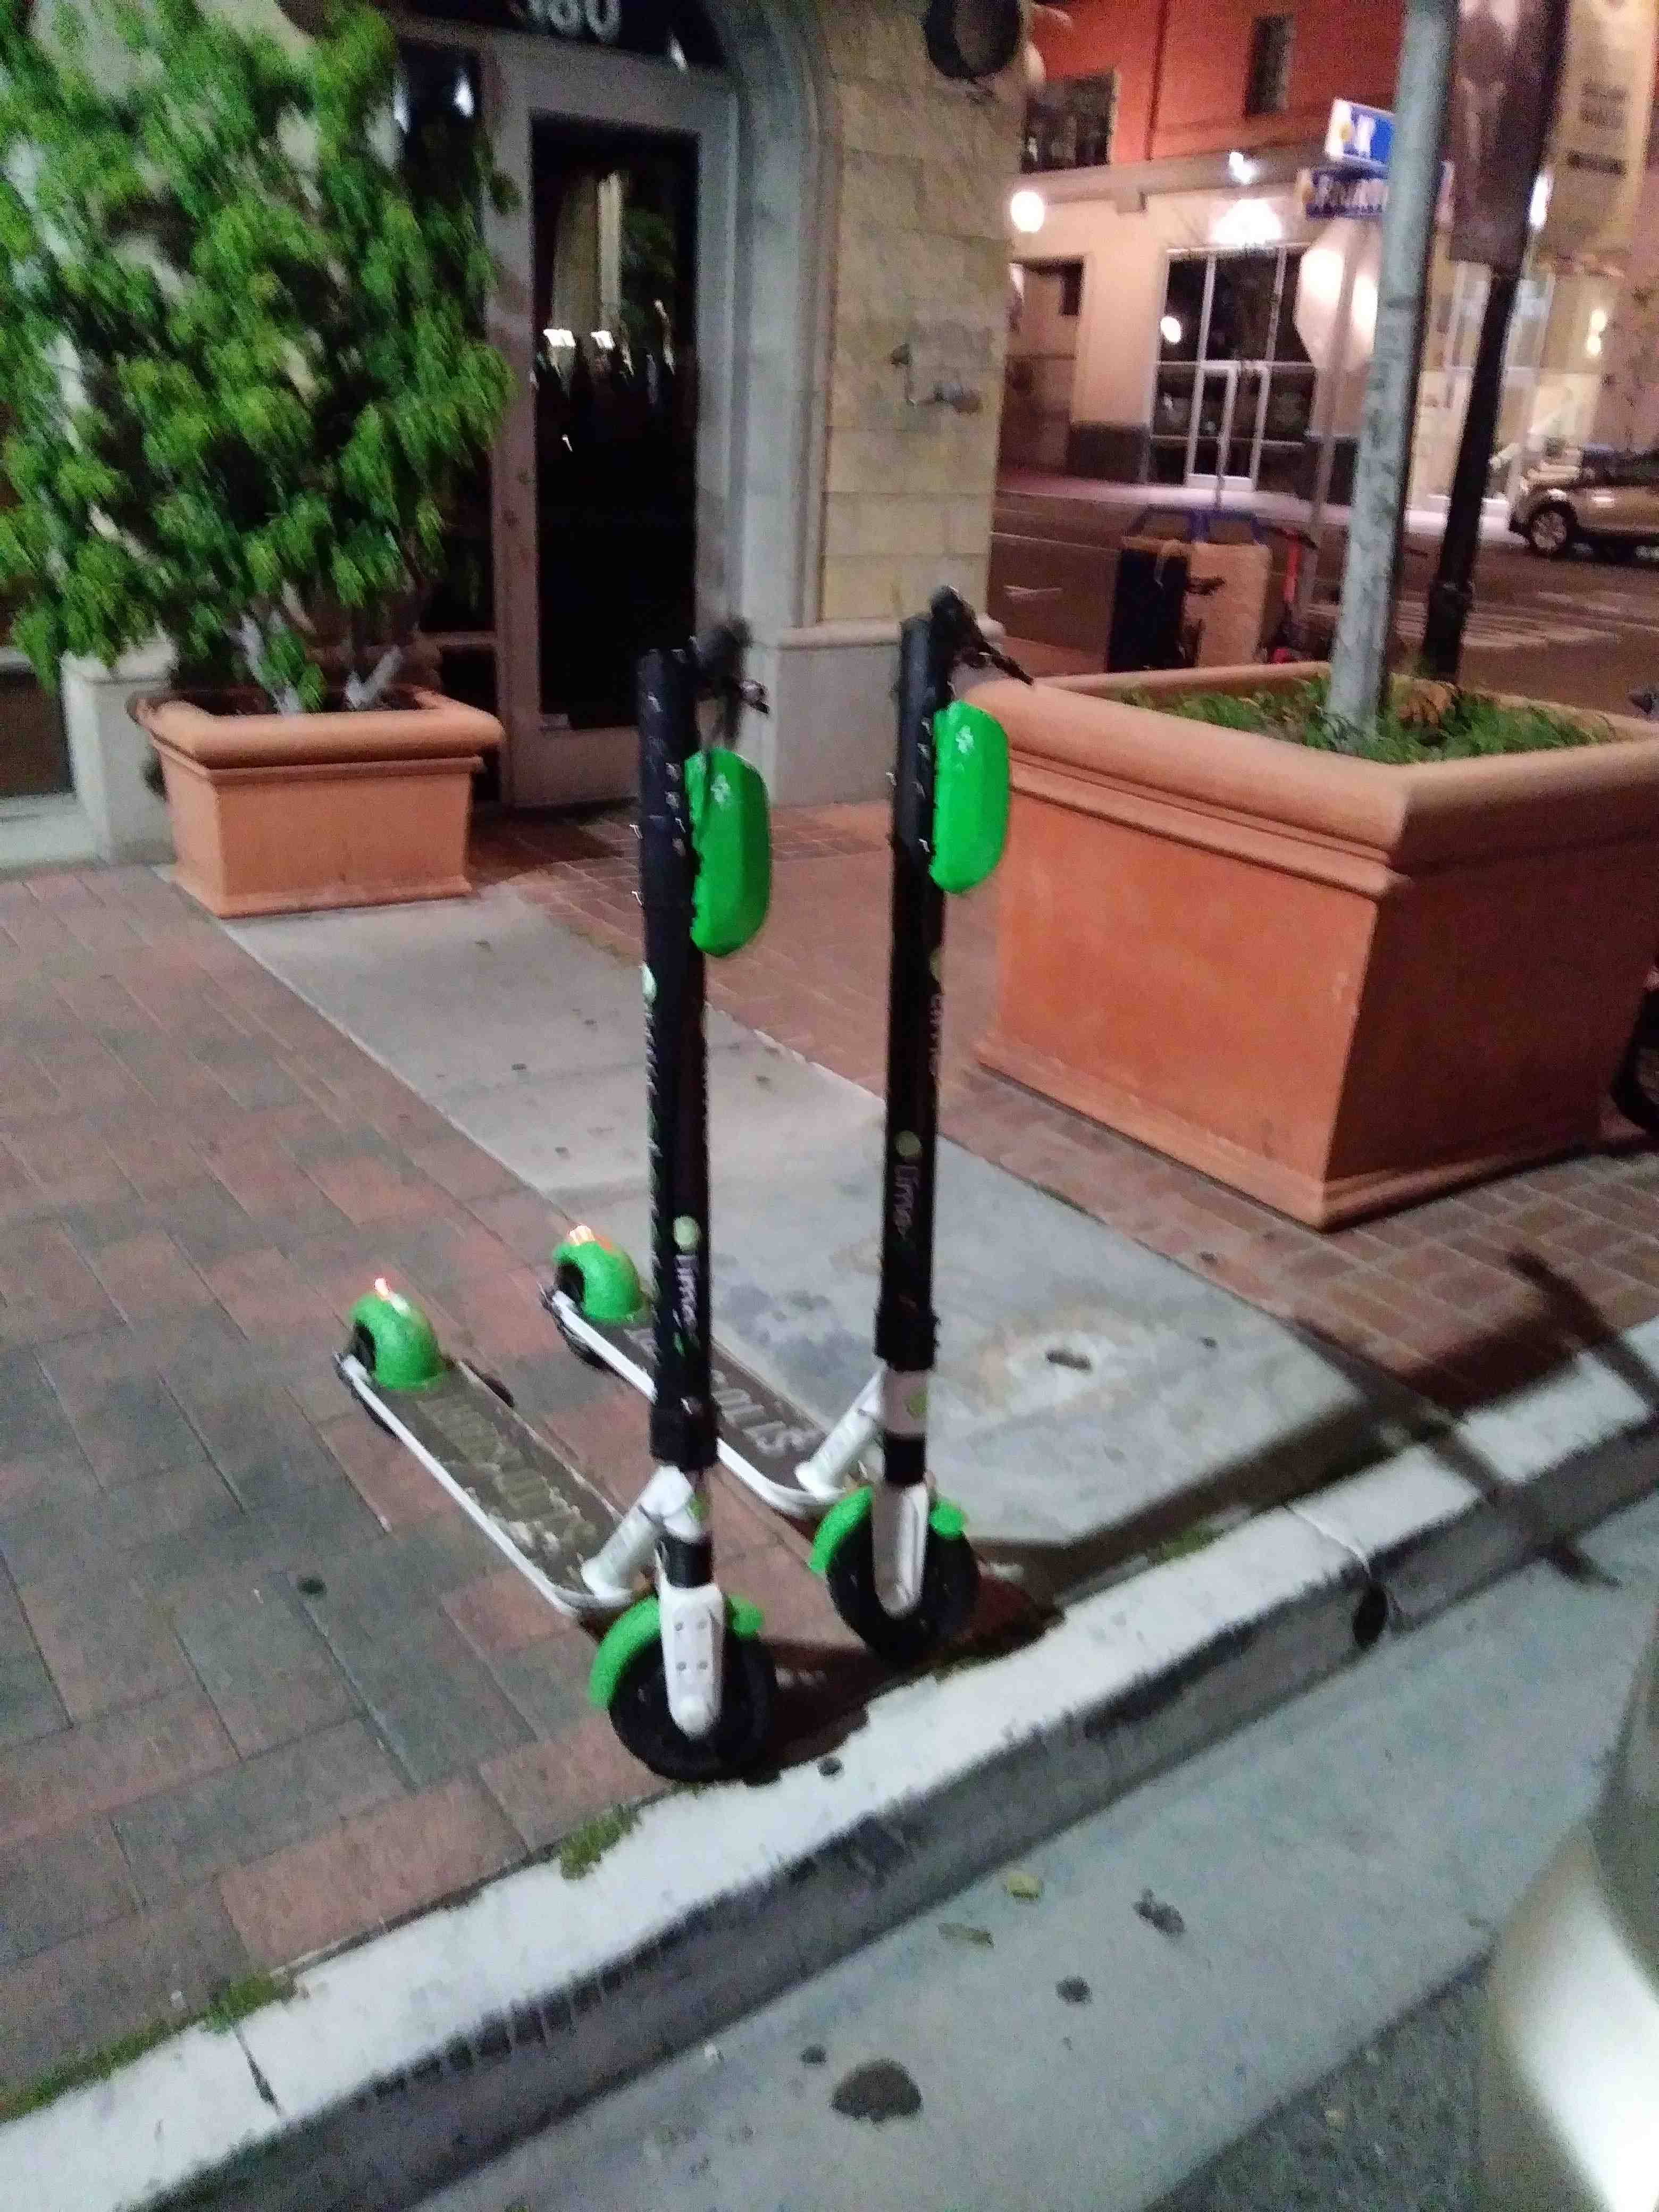too close: (502, 1554, 819, 1958), (798, 1456, 1068, 1777)
